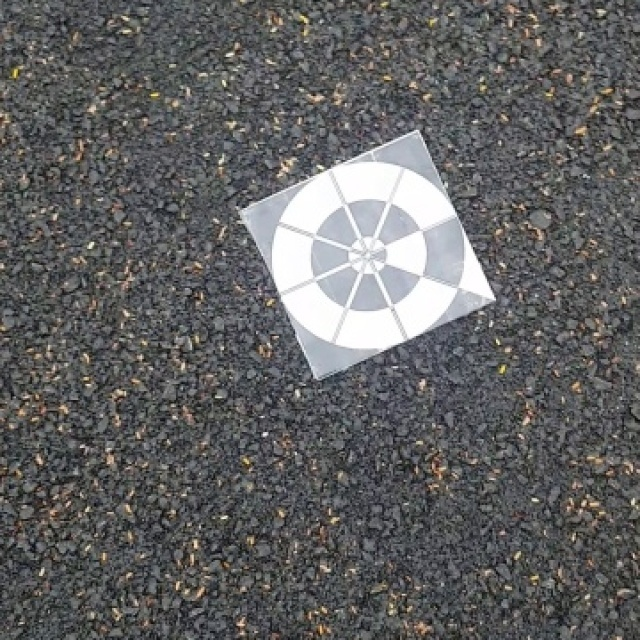landing-zone: (233, 132, 490, 386)
